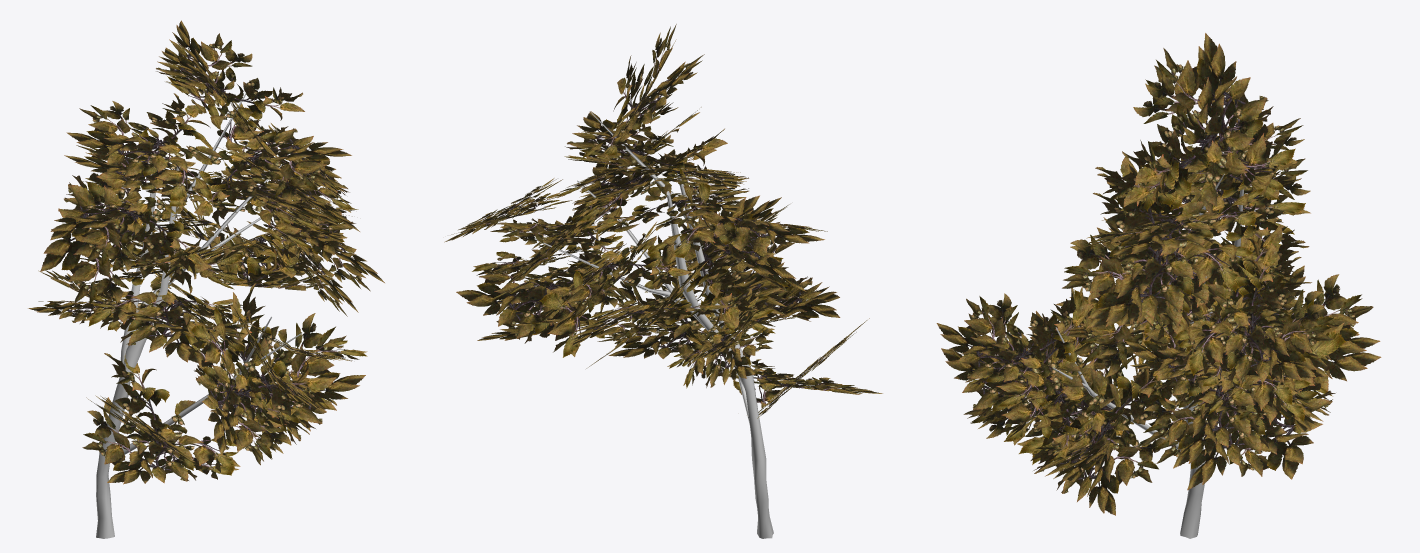
Rendered from shrub_hazel_03_autumn.DAE.
3 renders of one model, left to right at view 1: azimuth 30°, elevation 25°; view 2: azimuth 150°, elevation 25°; view 3: azimuth 270°, elevation 25°, orthographic. The views are drawn at different scales.
Visible parts, largest first — view 1: shrub_hazel03_CommonHazelLeaves_1, shrub_hazel03_CommonHazelLeaves_002, shrub_hazel03_CommonHazelBark; view 2: shrub_hazel03_CommonHazelLeaves_1, shrub_hazel03_CommonHazelLeaves_002, shrub_hazel03_CommonHazelBark; view 3: shrub_hazel03_CommonHazelLeaves_1, shrub_hazel03_CommonHazelLeaves_002, shrub_hazel03_CommonHazelBark.
Part boxes in pixels (x1,y1,x2,y2): shrub_hazel03_CommonHazelLeaves_1: (28,20,384,484); shrub_hazel03_CommonHazelLeaves_002: (34,22,381,483); shrub_hazel03_CommonHazelBark: (96,93,301,538); shrub_hazel03_CommonHazelLeaves_1: (444,24,882,418); shrub_hazel03_CommonHazelLeaves_002: (446,39,878,414); shrub_hazel03_CommonHazelBark: (536,111,773,538); shrub_hazel03_CommonHazelLeaves_1: (936,33,1381,515); shrub_hazel03_CommonHazelLeaves_002: (937,34,1378,514); shrub_hazel03_CommonHazelBark: (1052,174,1243,538).
Size of the model in its own units: 0.9458 by 1.22 by 0.9328.
